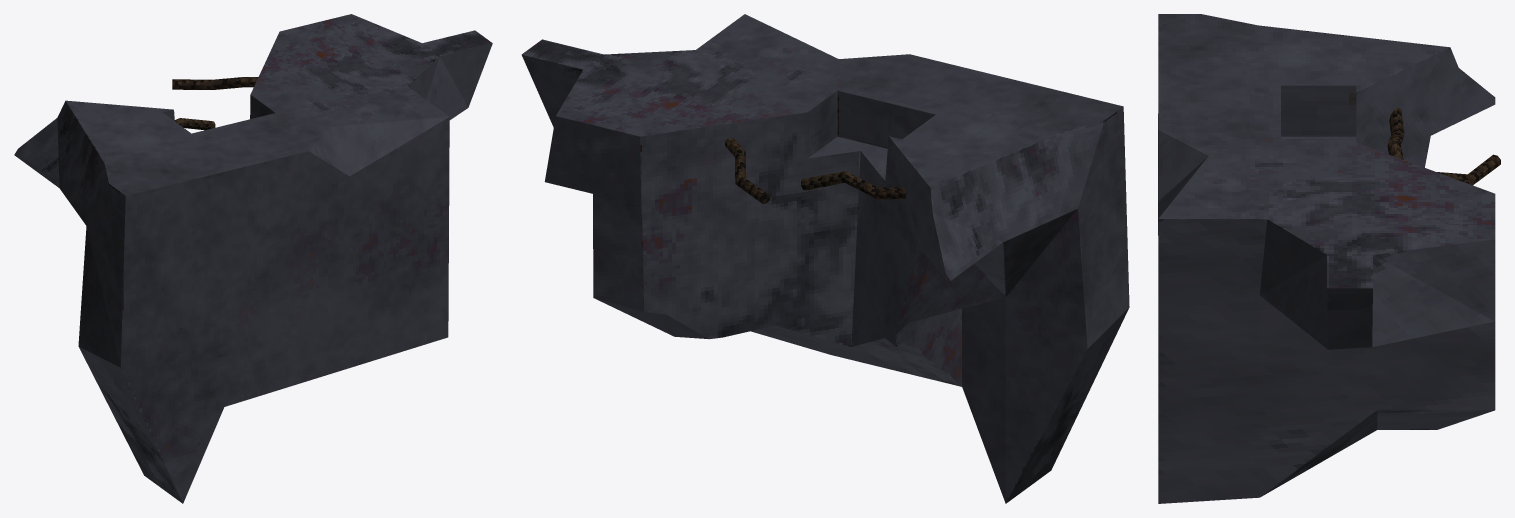
Rendered from debry_01.glb.
3 renders of one model, left to right at view 1: azimuth 30°, elevation 25°; view 2: azimuth 150°, elevation 25°; view 3: azimuth 270°, elevation 25°, orthographic. The views are drawn at different scales.
Parts seen in each view (by area): view 1: debry_01; view 2: debry_01; view 3: debry_01.
Boxes of the visible parts, x1=… form: debry_01: x1=14, y1=14, x2=492, y2=503; debry_01: x1=521, y1=14, x2=1129, y2=503; debry_01: x1=1158, y1=14, x2=1500, y2=503.
Size of the model in its own units: 3.91 by 2.76 by 2.03.
1 material, 1 textured.
